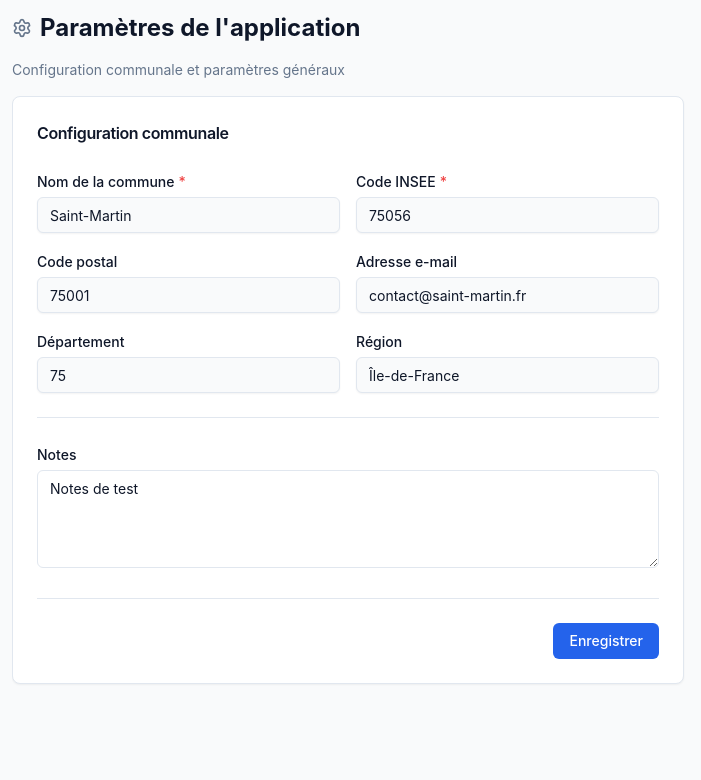
Scenario: Commune Settings - ParametresPage › gère les erreurs d'API et affiche un message d'erreur
Replace the text in the field showing "Saint-Martin" with "Nouvelle Valeur" at (188, 215), box [37,197,340,233]
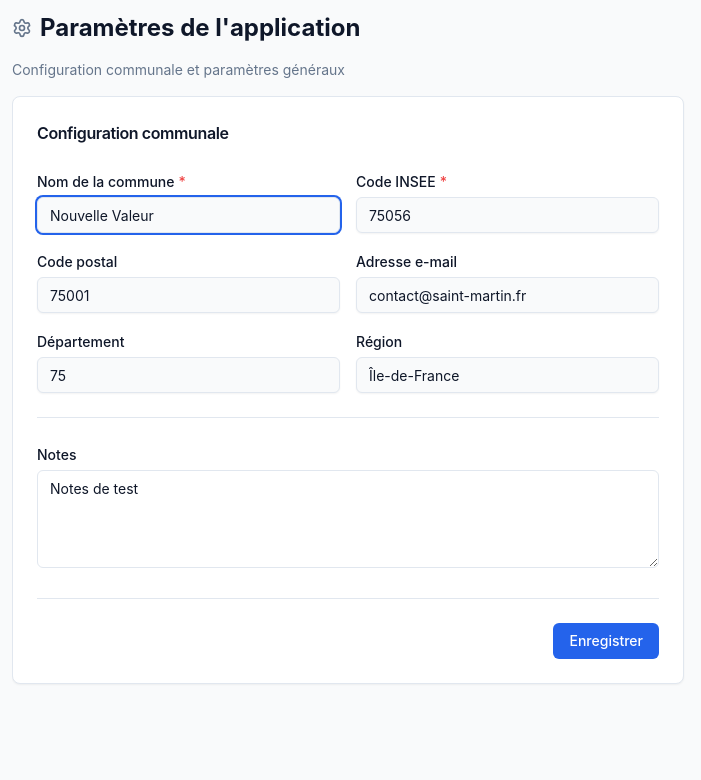
Click the button "Enregistrer" at (606, 641), box [554,623,659,659]
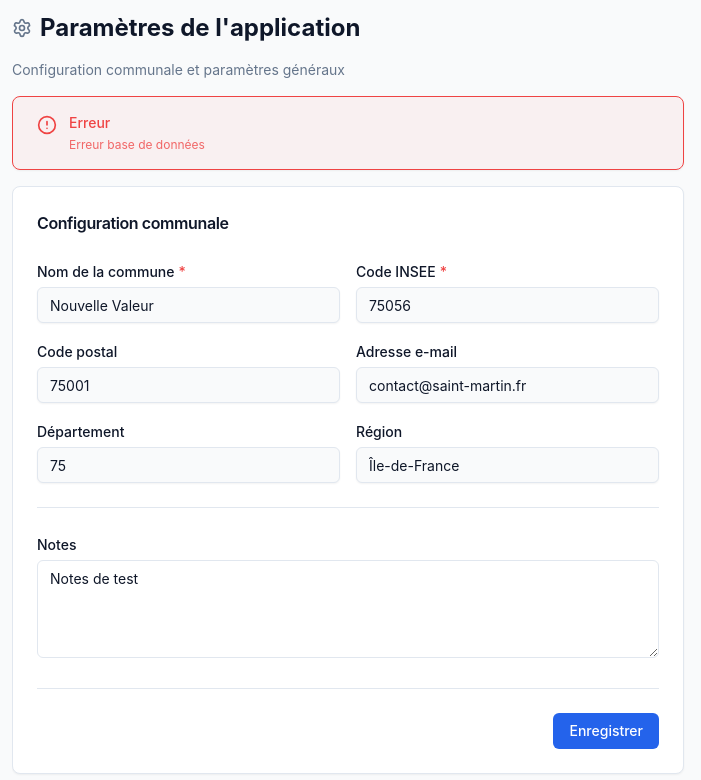
Expected: the text "Erreur base de données" is shown, [69,137,205,152]
